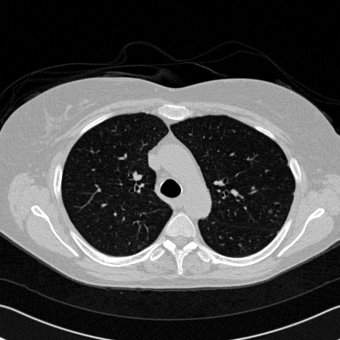nodule: (268, 209, 272, 213)
